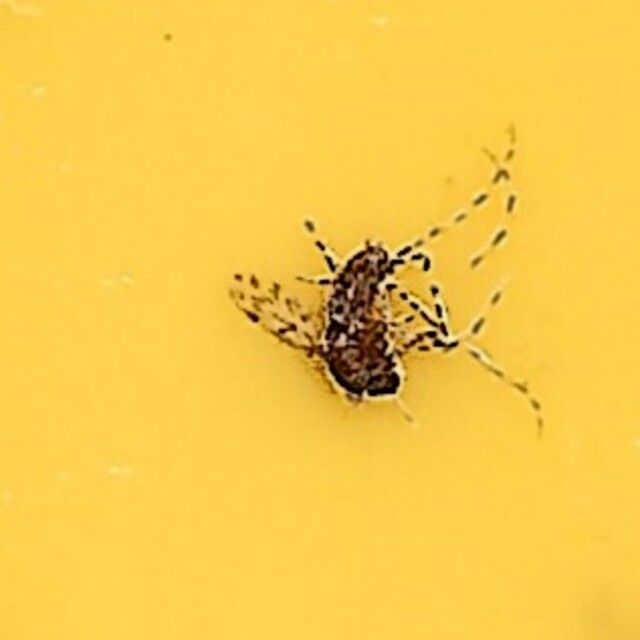Nematocera: (202, 224, 438, 416)
